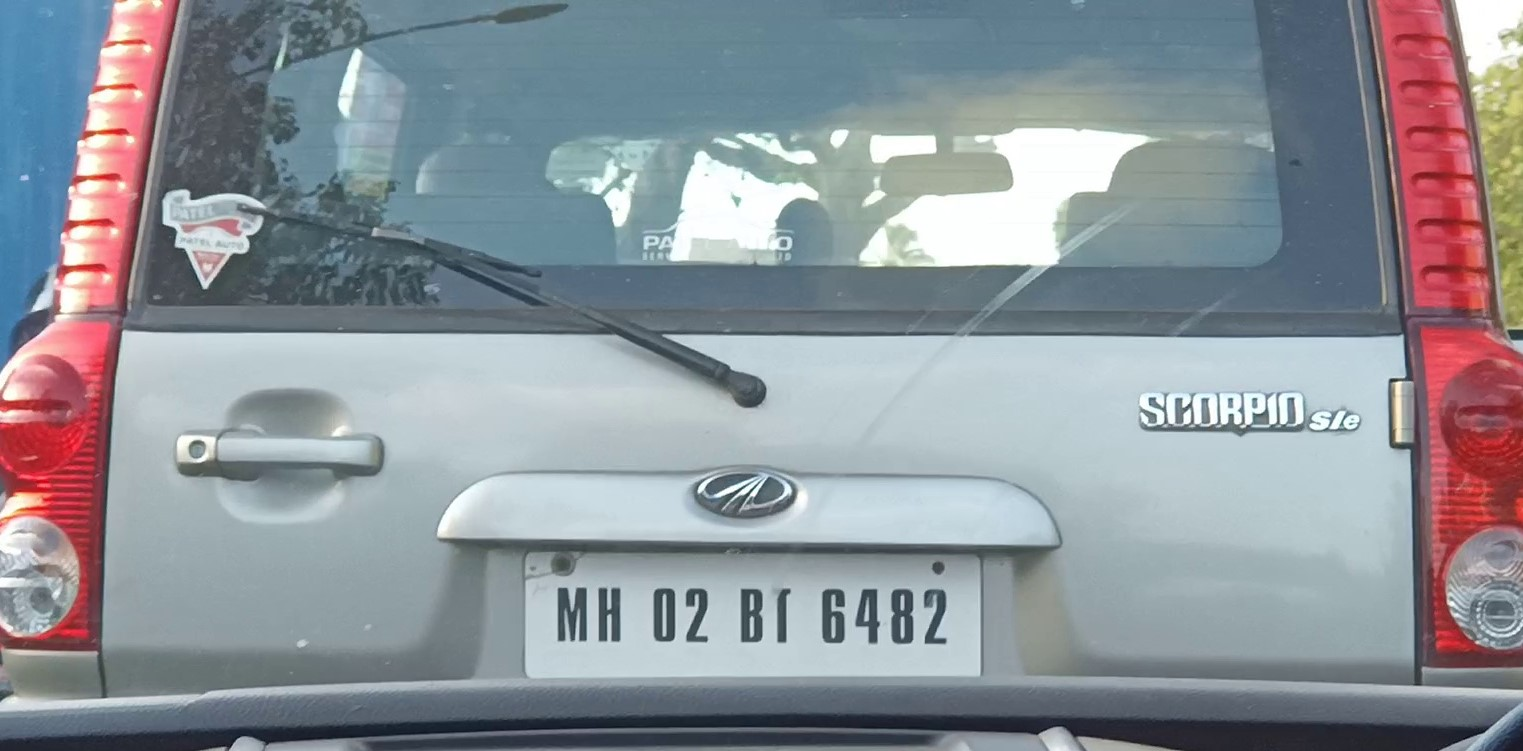MH02BT6482: (525, 550, 986, 678)
